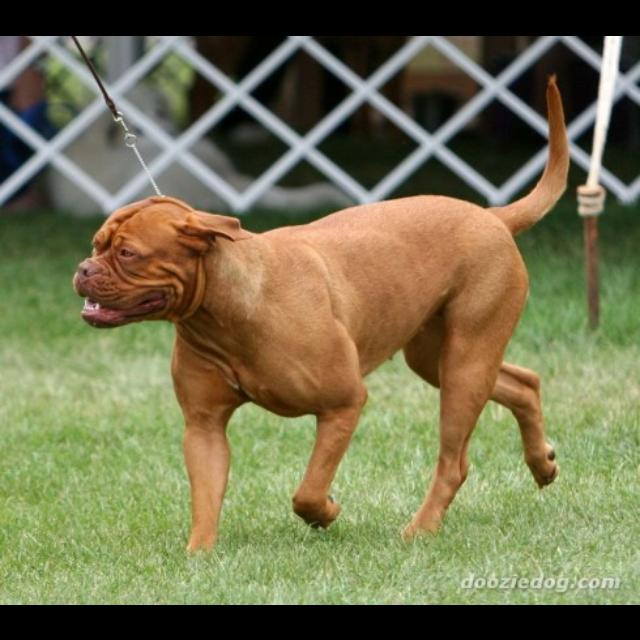dogue_de_bordeaux: (73, 72, 571, 557)
